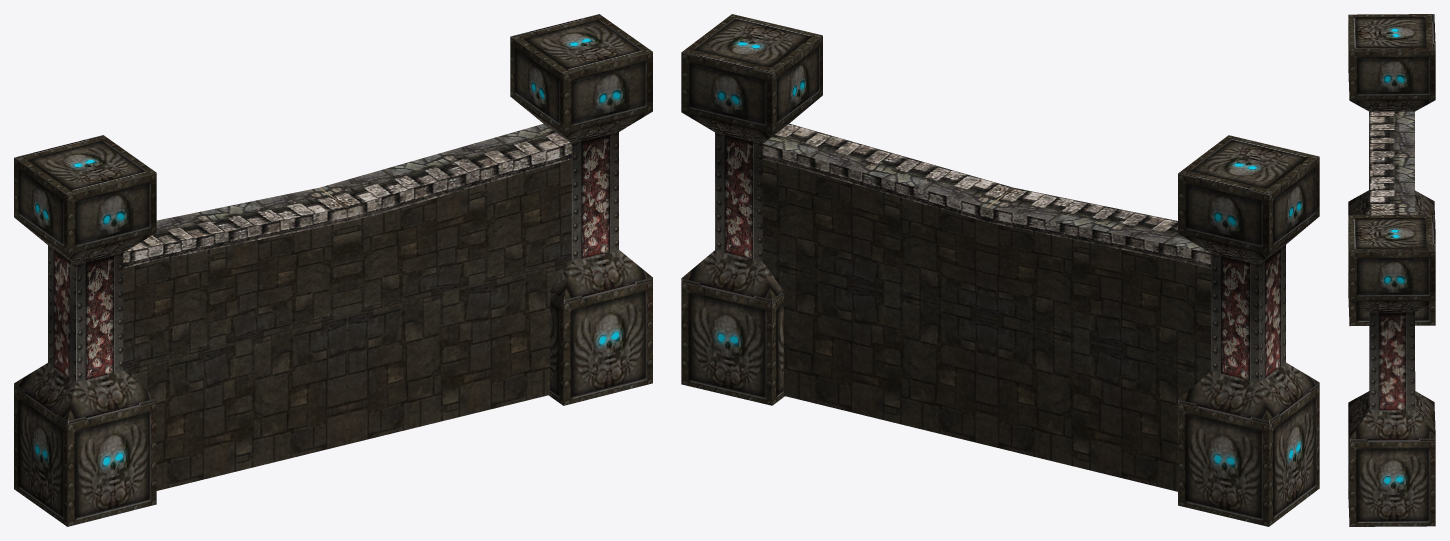
Rendered from wall-03.FBX.
3 views of the same model, side by side, from view 1: azimuth 30°, elevation 25°; view 2: azimuth 150°, elevation 25°; view 3: azimuth 270°, elevation 25° (orthographic). The views are drawn at different scales.
Visible parts, largest first — view 1: wall-03; view 2: wall-03; view 3: wall-03.
Boxes of the visible parts, box(x1,y1,x2,y2) form: wall-03: box(14, 14, 652, 526); wall-03: box(681, 14, 1319, 526); wall-03: box(1348, 14, 1435, 526).
Size of the model in its own units: 5.14 by 2.77 by 0.8002.
